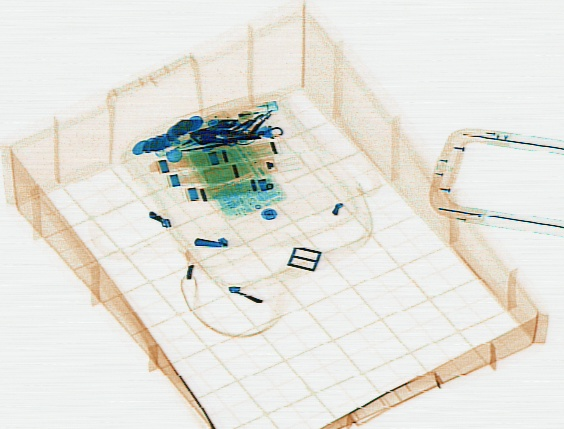lighter: (209, 100, 277, 122)
